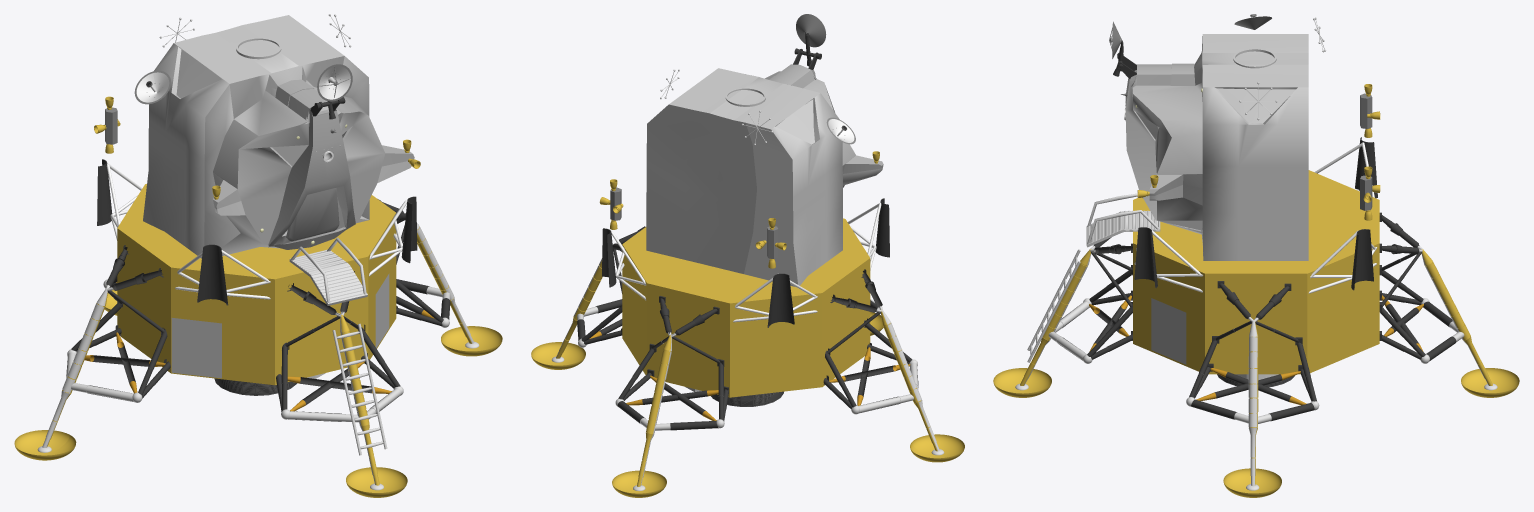
The model's file is betterinteriorlander.fbx.
The picture shows the model from 3 angles, left to right: view 1: azimuth 30°, elevation 25°; view 2: azimuth 150°, elevation 25°; view 3: azimuth 270°, elevation 25°; orthographic projection. The views are drawn at different scales.
Parts seen in each view (by area): view 1: polySurfac, pCylinder1, group31 19, pPlane1, group31 15, pCube3, group31 16, pCube27, polySurfa1, group75 pP, group31 g6, group31 10 (+13 smaller); view 2: polySurfac, pCylinder1, group31 19, group31 15, group31 16, group75 11, group31 g8, group31 14, group31 g6, group31 g7, pCylinder3, group51 g5 (+8 smaller); view 3: polySurfac, pCylinder1, group31 19, group31 15, group31 16, pPlane2, pCube3, group31 g8, group31 g7, group31 g6, pCylinder3, group31 14 (+9 smaller).
Boxes of the visible parts, x1,y1,x2,y2 form: polySurfac: (143, 15, 414, 258); pCylinder1: (117, 184, 396, 385); group31 19: (14, 289, 502, 497); pPlane1: (171, 318, 221, 378); group31 15: (42, 223, 474, 484); pCube3: (289, 249, 367, 305); group31 16: (47, 225, 471, 485); pCube27: (286, 188, 339, 241); polySurfa1: (332, 323, 387, 455); group75 pP: (197, 244, 228, 305); group31 g6: (71, 292, 450, 422); group31 10: (114, 276, 443, 410); polySurfac: (646, 64, 883, 286); pCylinder1: (622, 218, 870, 397); group31 19: (531, 312, 964, 497); group31 15: (556, 244, 939, 486); group31 16: (556, 260, 936, 486); group75 11: (767, 273, 794, 327); group31 g8: (589, 319, 870, 405); group31 14: (581, 306, 856, 407); group31 g6: (583, 299, 918, 430); group31 g7: (577, 313, 913, 427); pCylinder3: (650, 364, 910, 420); group51 g5: (796, 14, 826, 47); polySurfac: (1125, 34, 1308, 260); pCylinder1: (1133, 170, 1379, 374); group31 19: (993, 368, 1519, 497); group31 15: (1020, 249, 1492, 486); group31 16: (1020, 251, 1492, 475); pPlane2: (1151, 298, 1186, 364); pCube3: (1086, 210, 1160, 247); group31 g8: (1089, 295, 1423, 405); group31 g7: (1048, 331, 1464, 423); group31 g6: (1055, 301, 1457, 423); pCylinder3: (1089, 304, 1423, 400); group31 14: (1087, 305, 1425, 401).
Size of the model in its own units: 16.33 by 12.73 by 16.32.
